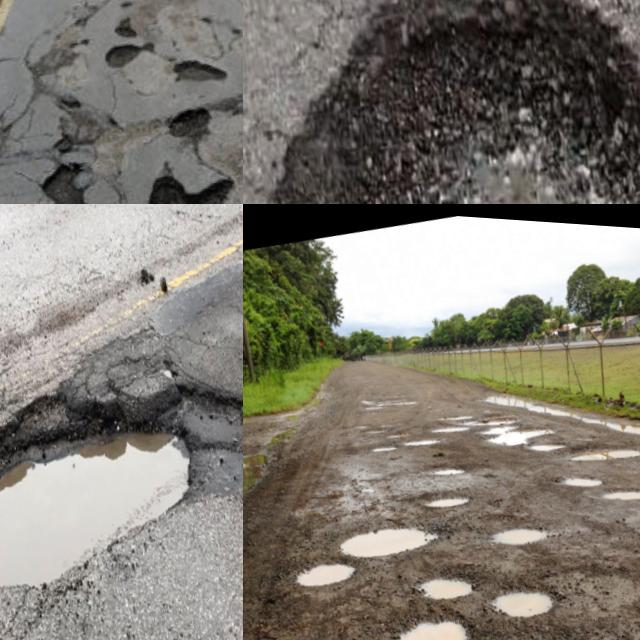Potholes: (0, 237, 243, 640), (243, 0, 640, 204), (278, 475, 468, 634), (350, 523, 562, 640), (533, 402, 640, 542), (348, 363, 478, 471), (487, 460, 597, 582), (449, 382, 574, 485), (439, 572, 626, 640), (376, 460, 499, 547), (595, 460, 640, 607)
